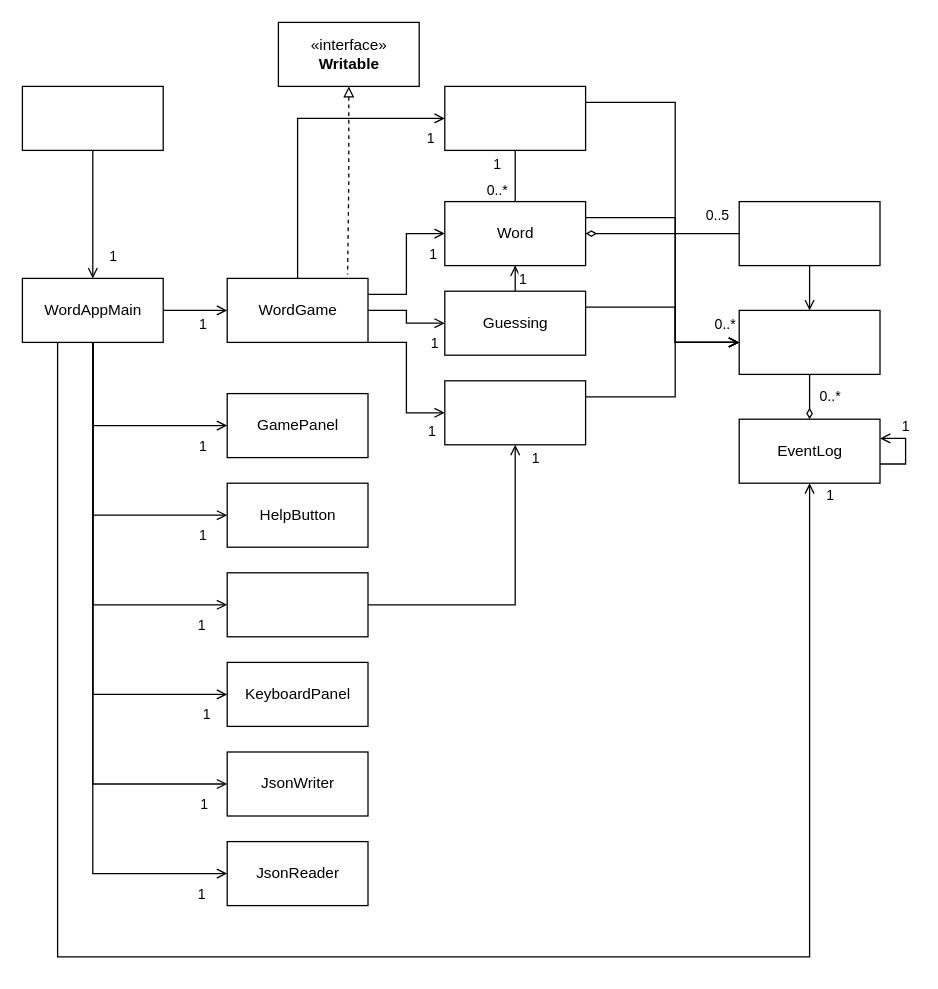
This 938x989 diagram has some shape labels left out. Each missing label, with the centre of its shape:
"Event" goes at point (809, 341).
"Letter" goes at point (809, 233).
"Main" goes at point (92, 117).
"SolveTimer" goes at point (515, 412).
"StatsPanel" goes at point (297, 604).
"WordHistory" goes at point (515, 117).
